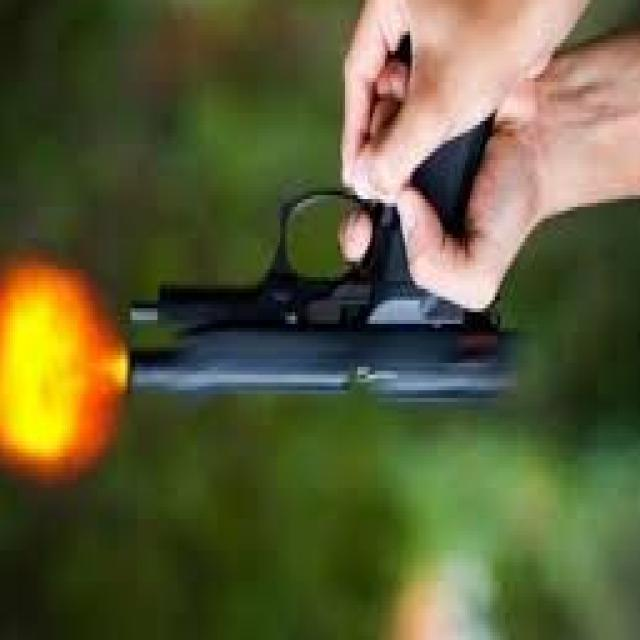gun: (100, 0, 540, 437)
